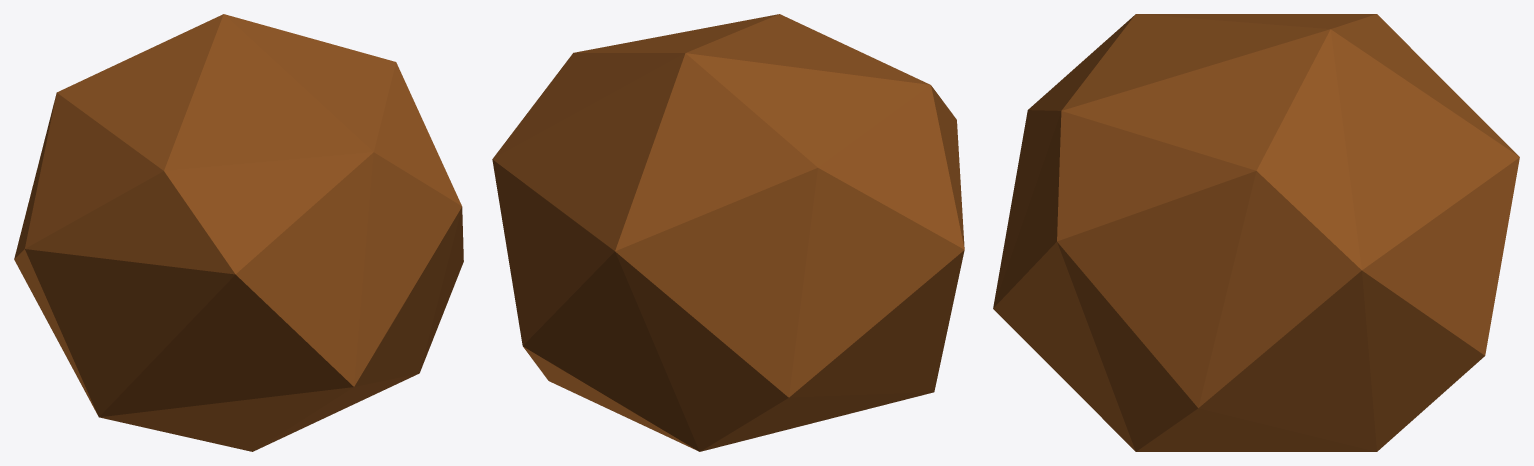
Rendered from Soil 04.fbx.
The picture shows the model from 3 angles, left to right: view 1: azimuth 30°, elevation 25°; view 2: azimuth 150°, elevation 25°; view 3: azimuth 270°, elevation 25°; orthographic projection. The views are drawn at different scales.
Parts seen in each view (by area): view 1: Rock 01.001; view 2: Rock 01.001; view 3: Rock 01.001.
Boxes of the visible parts, bbox=[...] form: Rock 01.001: bbox=[14, 14, 463, 451]; Rock 01.001: bbox=[492, 14, 964, 451]; Rock 01.001: bbox=[993, 14, 1519, 451].
Bounding box in the file's own units: 0.5136 × 0.4521 × 0.5045.
